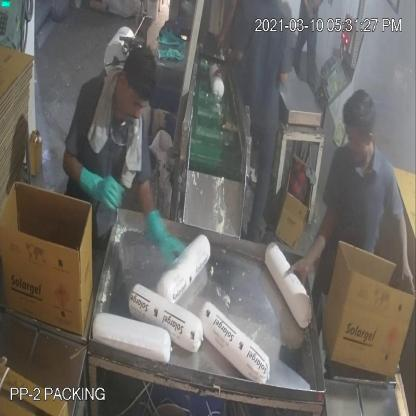glove: (142, 197, 189, 294), (76, 162, 126, 222)
no_glove: (286, 177, 339, 301), (389, 205, 416, 309), (210, 47, 250, 89)
